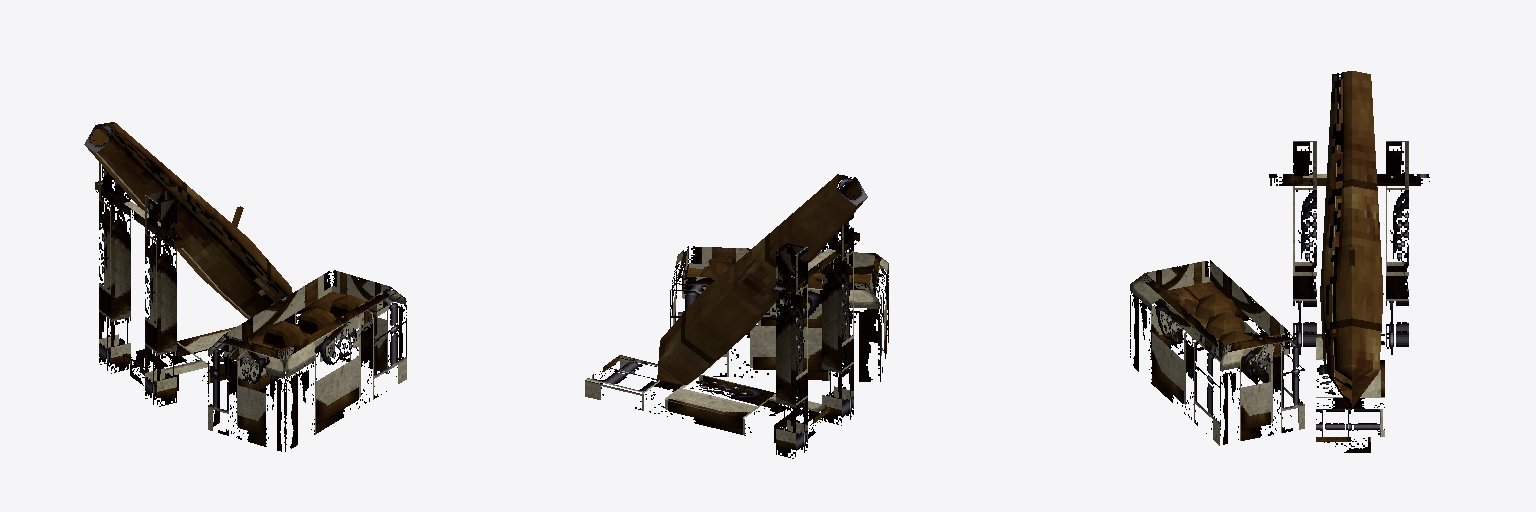
3 renders of one model, left to right at view 1: azimuth 30°, elevation 25°; view 2: azimuth 150°, elevation 25°; view 3: azimuth 270°, elevation 25°, orthographic.
Visible parts, largest first — view 1: Mesh_0; view 2: Mesh_0; view 3: Mesh_0.
Boxes of the visible parts, box(x1,y1,x2,y2) form: Mesh_0: box(84, 122, 406, 451); Mesh_0: box(585, 174, 888, 458); Mesh_0: box(1130, 71, 1429, 452).
Size of the model in its own units: 1.36 by 1.33 by 1.35.
Materials: 1 (1 with a texture image).